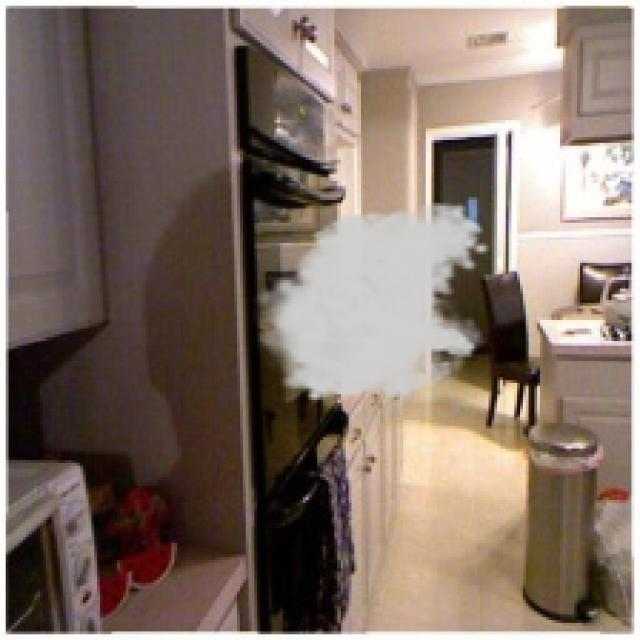Smoke: (248, 200, 492, 414)
